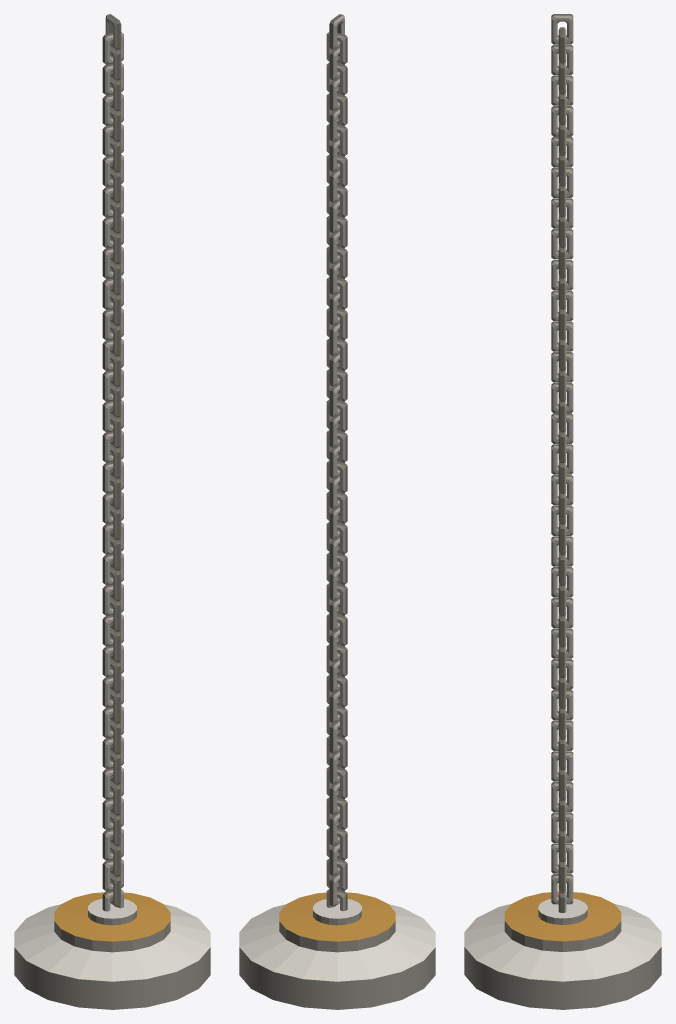
The model's file is Magnet.FBX.
3 renders of one model, left to right at view 1: azimuth 30°, elevation 25°; view 2: azimuth 150°, elevation 25°; view 3: azimuth 270°, elevation 25°, orthographic.
Parts seen in each view (by area): view 1: Cylinder001; view 2: Cylinder001; view 3: Cylinder001.
Part boxes in pixels (left/top/right/bottom): Cylinder001: left=14, top=14, right=210, bottom=1009; Cylinder001: left=239, top=14, right=435, bottom=1009; Cylinder001: left=464, top=14, right=661, bottom=1009.
Size of the model in its own units: 274 by 1439 by 270.
